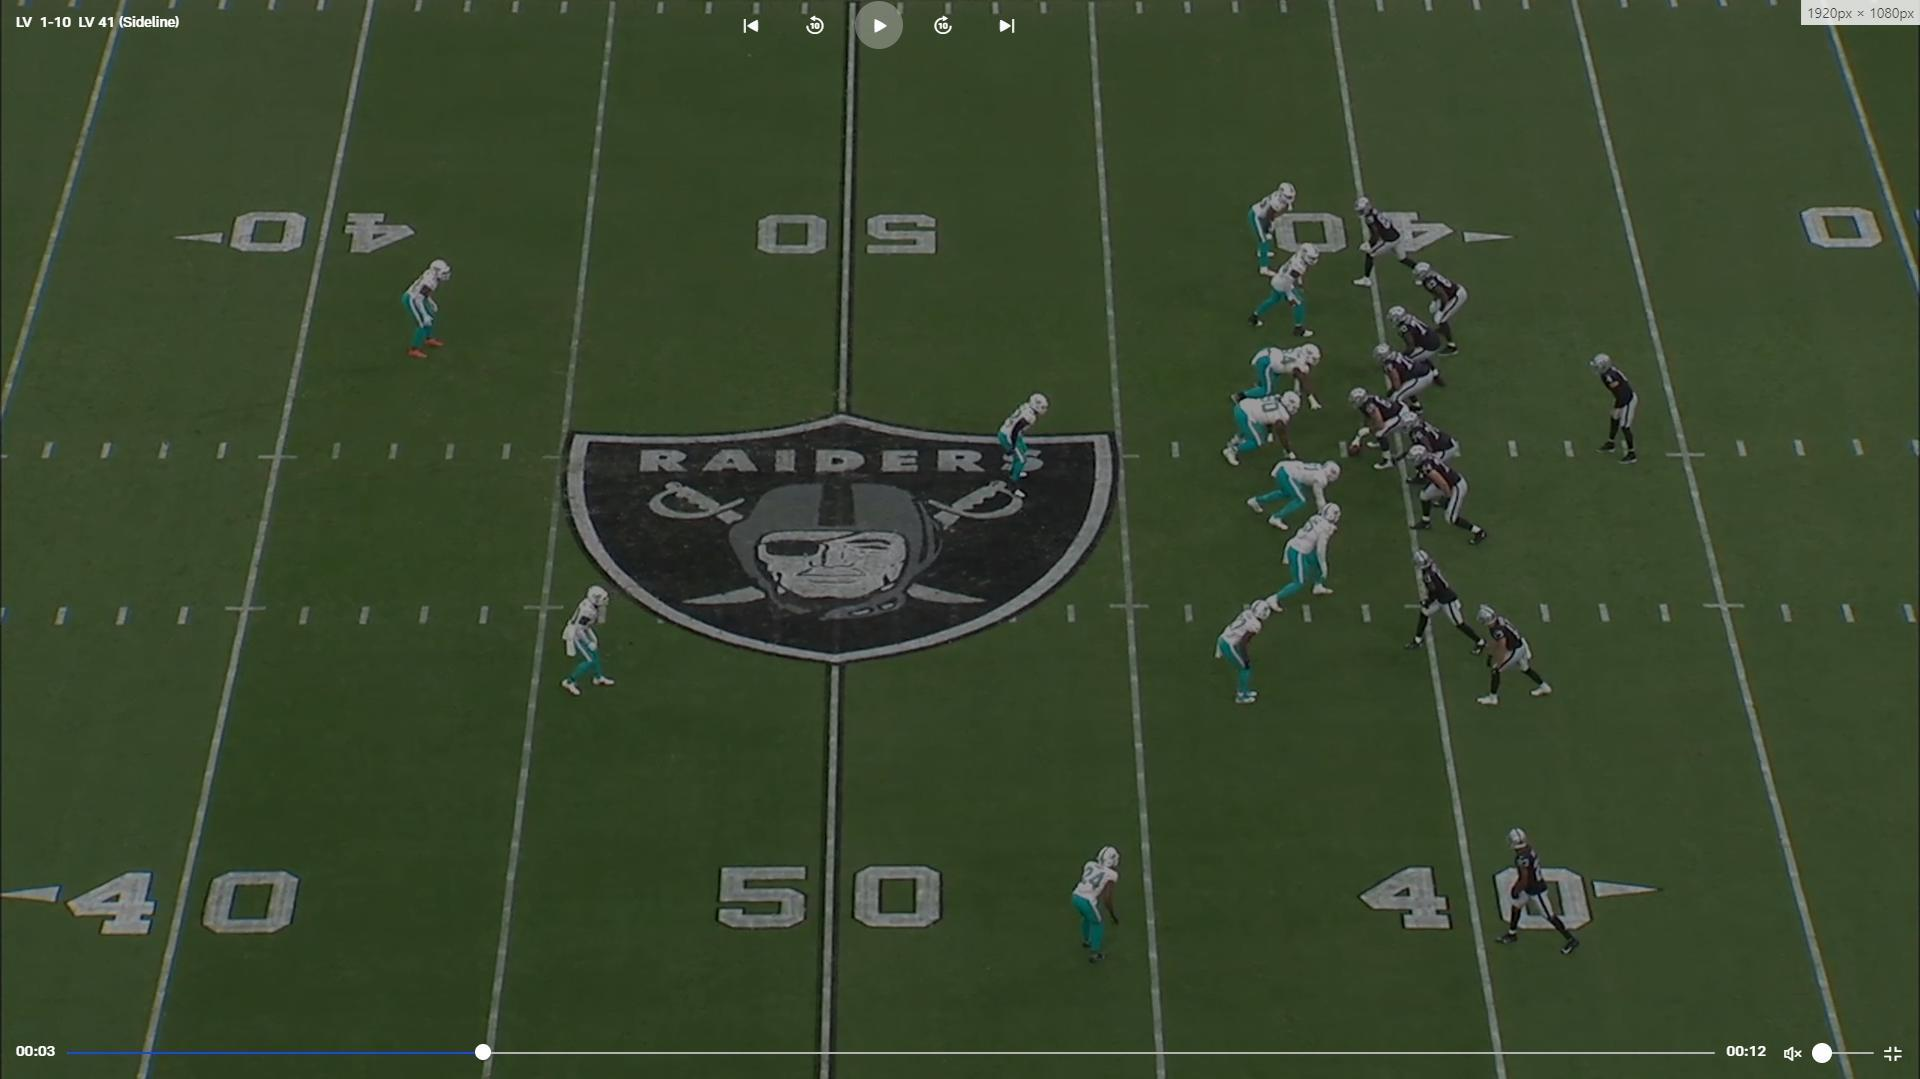defense: (1266, 496, 1346, 607), (1065, 839, 1130, 970), (560, 580, 622, 707), (1244, 456, 1344, 534), (1228, 340, 1328, 416), (1249, 240, 1324, 340), (1216, 595, 1280, 710), (1222, 393, 1309, 472), (402, 255, 459, 364), (1000, 386, 1058, 489), (1247, 179, 1303, 280)
oline: (1404, 441, 1490, 547), (1393, 416, 1464, 500), (1348, 383, 1416, 470), (1386, 306, 1449, 394), (1371, 344, 1441, 416)
qb: (1585, 350, 1644, 467)
skill: (1499, 823, 1590, 959), (1476, 599, 1557, 708), (1408, 551, 1489, 657), (1352, 197, 1420, 290), (1414, 259, 1472, 356)
